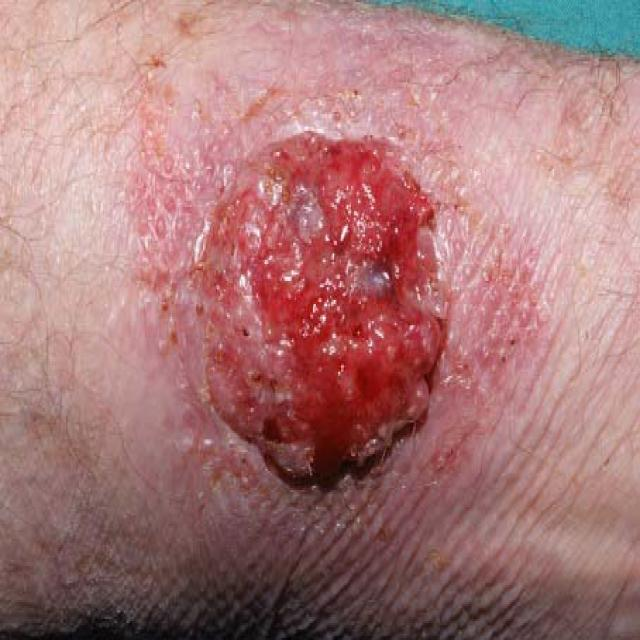Cancer: (177, 106, 454, 498)
